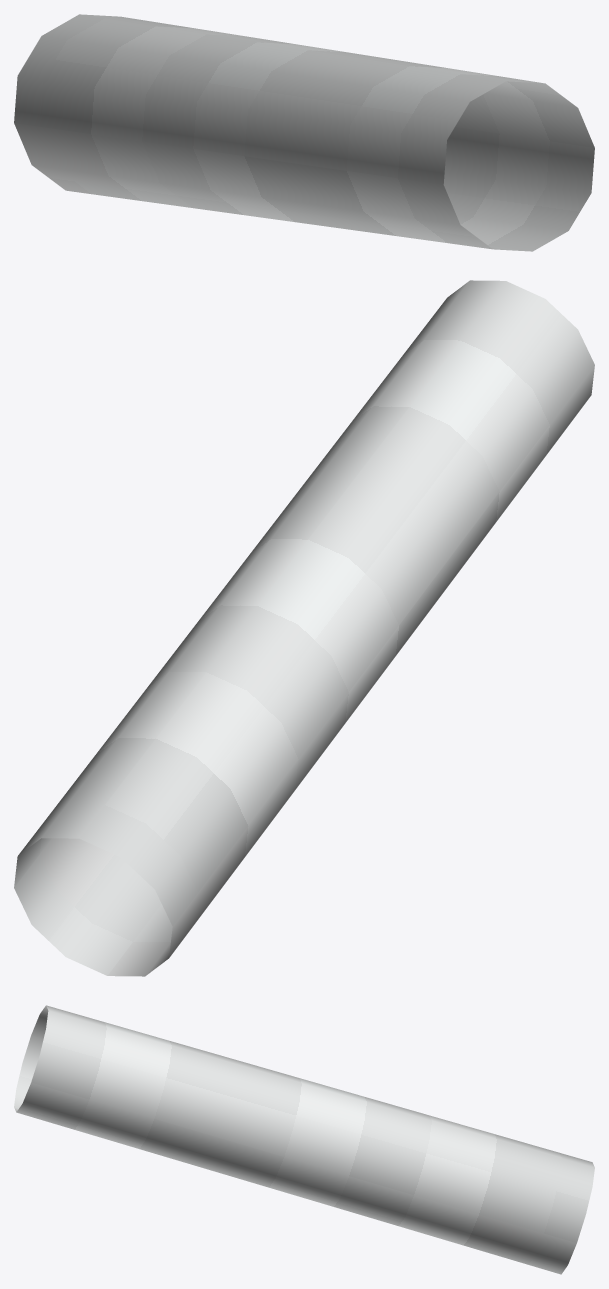
File: luminairearm_caltrans12ftstraightdouble_c9.obj
3 views of the same model, one above another, from view 1: azimuth 30°, elevation 25°; view 2: azimuth 150°, elevation 25°; view 3: azimuth 270°, elevation 25° (orthographic). The views are drawn at different scales.
Parts seen in each view (by area): view 1: luminairearm_caltrans12ftstraightdouble_c9; view 2: luminairearm_caltrans12ftstraightdouble_c9; view 3: luminairearm_caltrans12ftstraightdouble_c9.
Boxes of the visible parts, x1,y1,x2,y2 form: luminairearm_caltrans12ftstraightdouble_c9: [14, 14, 594, 251]; luminairearm_caltrans12ftstraightdouble_c9: [14, 280, 594, 976]; luminairearm_caltrans12ftstraightdouble_c9: [14, 1005, 594, 1274].
Bounding box in the file's own units: 0.215 × 0.5224 × 1.06.
